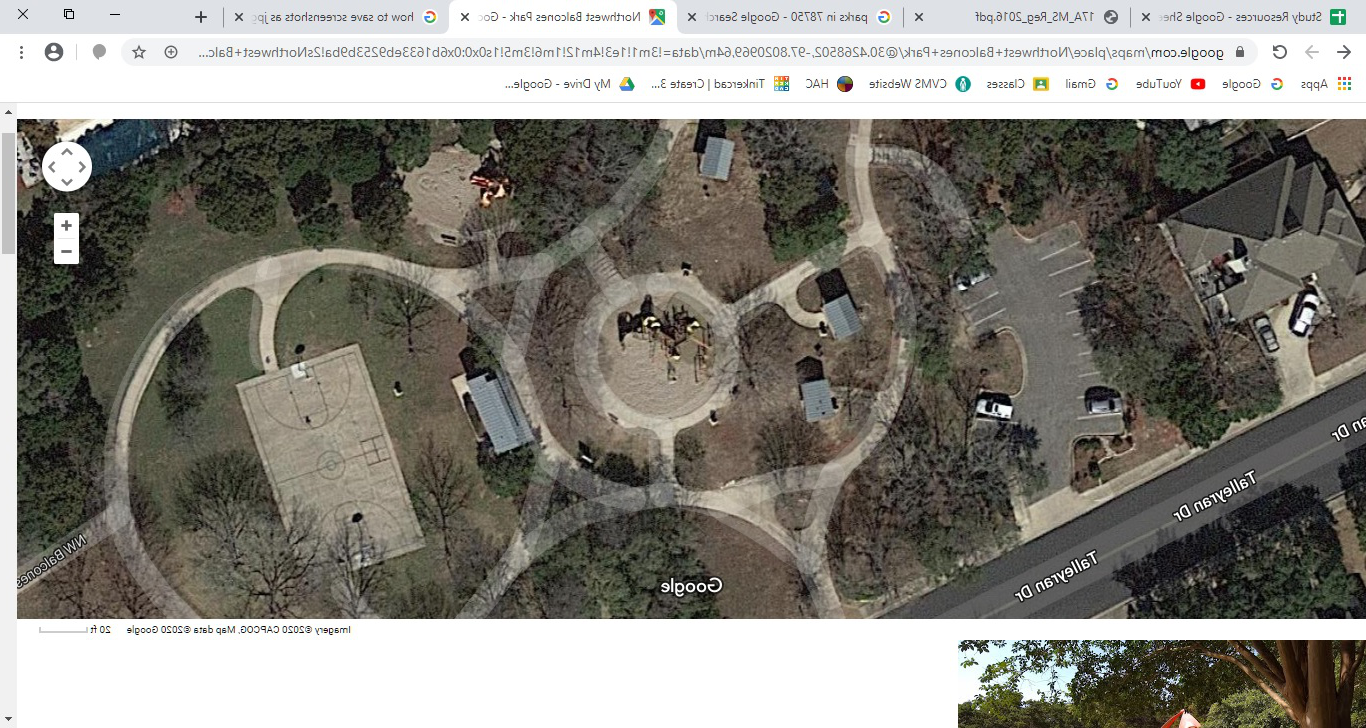basketball: (200, 326, 438, 588)
playscape: (556, 254, 828, 460)
